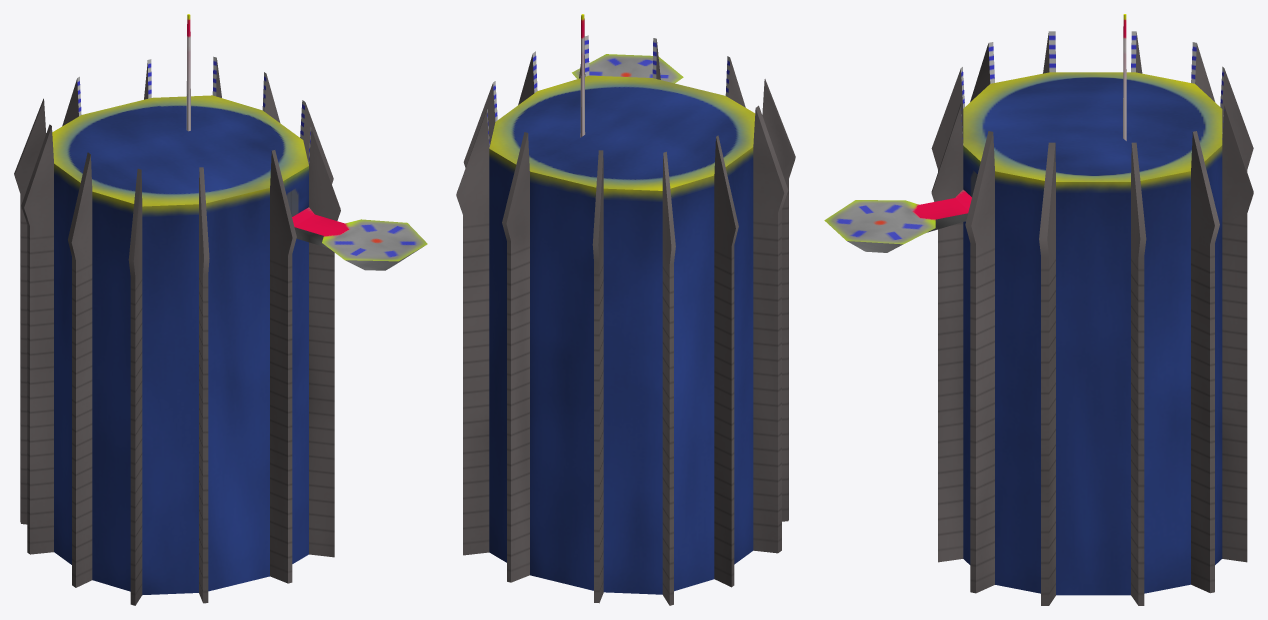
File: helipad.fbx
The picture shows the model from 3 angles, left to right: view 1: azimuth 30°, elevation 25°; view 2: azimuth 150°, elevation 25°; view 3: azimuth 270°, elevation 25°; orthographic projection. The views are drawn at different scales.
Parts seen in each view (by area): view 1: Helitower; view 2: Helitower; view 3: Helitower.
Boxes of the visible parts, left/top/right/bottom form: Helitower: left=14, top=14, right=427, bottom=605; Helitower: left=456, top=14, right=795, bottom=605; Helitower: left=824, top=14, right=1253, bottom=605.
Bounding box in the file's own units: 9.68 × 17.23 × 12.42.
